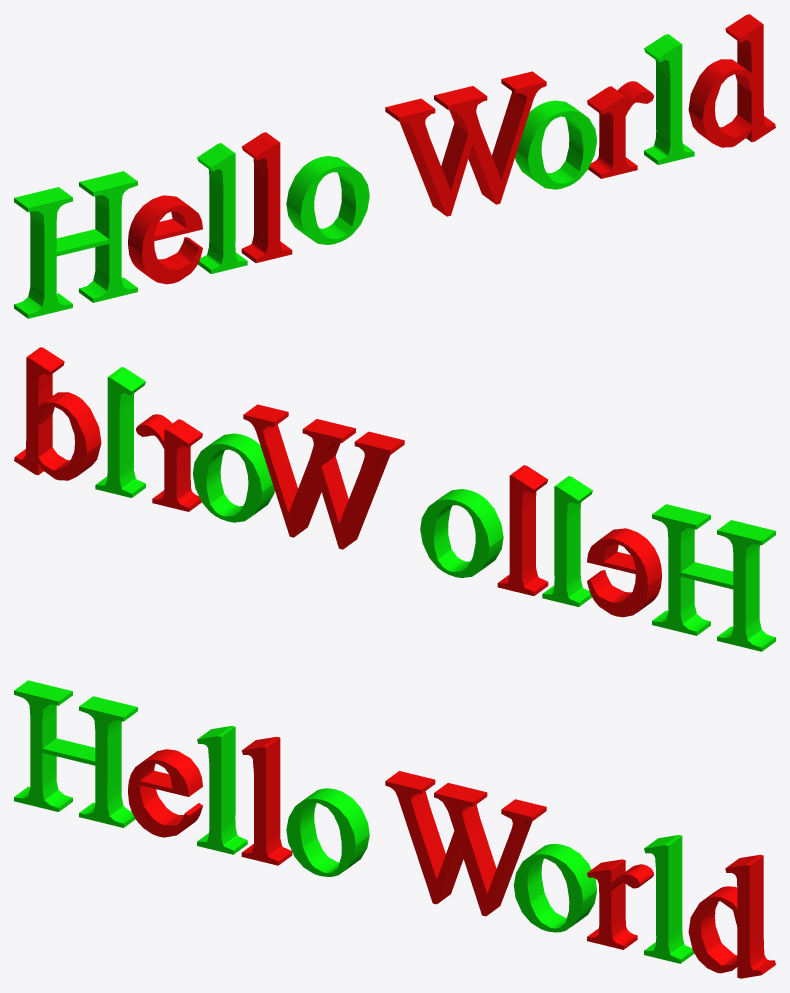
The model's file is HelloWorld.obj.
3 renders of one model, top to bottom at view 1: azimuth 30°, elevation 25°; view 2: azimuth 150°, elevation 25°; view 3: azimuth 330°, elevation 25°, orthographic.
Visible parts, largest first — view 1: W, H, d, e, o, o1, l2, l3, l1, r; view 2: W, H, d, e, o, o1, l2, l3, l1, r; view 3: W, H, d, o, o1, e, l2, l1, l3, r.
Part boxes in pixels (box(x1,y1,x2,y2)): W: box(385, 71, 546, 216); H: box(14, 171, 137, 318); d: box(688, 14, 775, 147); e: box(128, 195, 202, 284); o: box(286, 156, 369, 244); o1: box(515, 100, 596, 189); l2: box(241, 132, 292, 262); l3: box(644, 34, 694, 164); l1: box(197, 143, 247, 273); r: box(587, 81, 653, 178); W: box(243, 404, 404, 549); H: box(652, 504, 775, 651); d: box(14, 347, 101, 480); e: box(587, 528, 661, 617); o: box(420, 489, 503, 577); o1: box(193, 433, 274, 522); l2: box(497, 465, 548, 595); l3: box(95, 367, 145, 497); l1: box(542, 476, 592, 606); r: box(136, 414, 202, 511); W: box(385, 771, 546, 916); H: box(14, 680, 137, 827); d: box(688, 854, 775, 978); o: box(286, 788, 369, 876); o1: box(513, 843, 596, 932); e: box(128, 749, 202, 837); l2: box(241, 736, 292, 865); l1: box(197, 726, 247, 854); l3: box(644, 835, 694, 963); r: box(587, 859, 653, 949).
Bounding box in the file's own units: 18.39 × 2.7 × 0.602.
